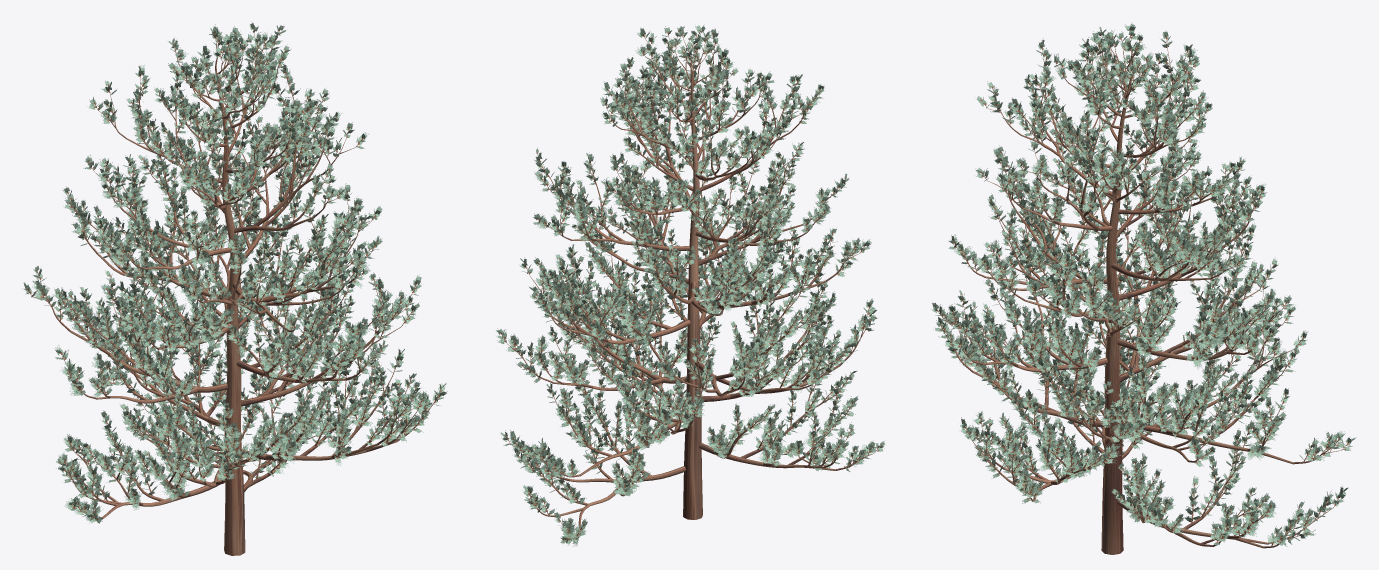
Rendered from tree1.fbx.
3 renders of one model, left to right at view 1: azimuth 30°, elevation 25°; view 2: azimuth 150°, elevation 25°; view 3: azimuth 270°, elevation 25°, orthographic. The views are drawn at different scales.
Parts seen in each view (by area): view 1: leaves, tree; view 2: leaves, tree; view 3: leaves, tree.
Boxes of the visible parts, x1,y1,x2,y2 form: leaves: [23, 22, 447, 523]; tree: [26, 31, 441, 555]; leaves: [496, 25, 884, 546]; tree: [501, 32, 878, 540]; leaves: [932, 22, 1356, 546]; tree: [937, 35, 1347, 554].
Size of the model in its own units: 400 by 521 by 395.
